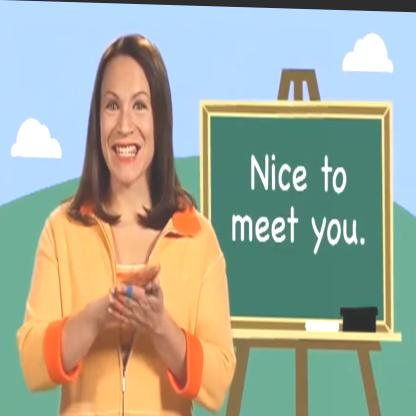NiceToMeetYou: (95, 260, 170, 360)
